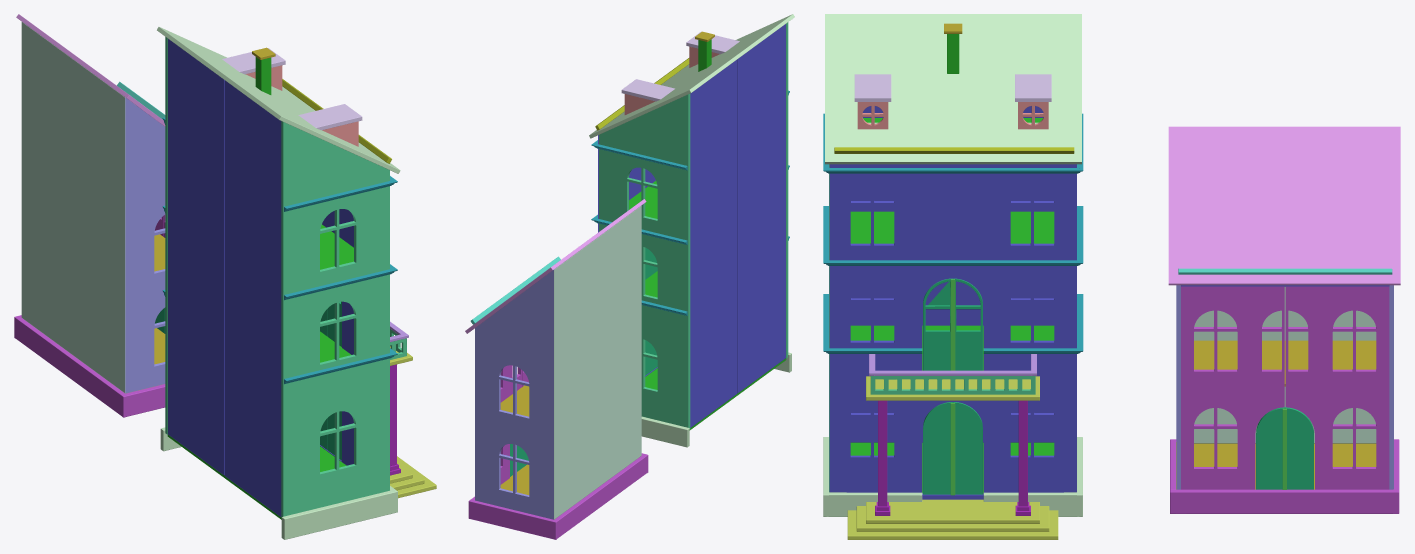
The model's file is dollHouse.fbx.
The picture shows the model from 3 angles, left to right: view 1: azimuth 30°, elevation 25°; view 2: azimuth 150°, elevation 25°; view 3: azimuth 270°, elevation 25°; orthographic projection. The views are drawn at different scales.
Parts seen in each view (by area): view 1: Box298, Box333, Box296, Box295, Box328, Box301, Box336, Box300, Box294, Box312, Box297, Box319 (+10 smaller); view 2: Box333, Box297, Box296, Box295, Box329, Box336, Box301, Box298, Box314, Box325, Box312, Box326 (+10 smaller); view 3: Box294, Box325, Box301, Box326, Box327, Box336, Box333, Box312, Box295, Box296, Box332, Box303 (+28 smaller).
Part boxes in pixels (x1,y1,x2,y2): Box298: (281, 121, 389, 517); Box333: (21, 22, 125, 392); Box296: (224, 80, 281, 516); Box295: (168, 39, 224, 475); Box328: (125, 97, 165, 393); Box301: (157, 27, 400, 173); Box336: (14, 315, 165, 417); Box300: (281, 486, 397, 539); Box294: (320, 209, 353, 465); Box312: (320, 224, 353, 362); Box297: (165, 37, 167, 434); Box319: (298, 104, 362, 130); Box333: (554, 206, 641, 519); Box297: (599, 94, 690, 428); Box296: (737, 24, 785, 393); Box295: (690, 59, 737, 427); Box329: (475, 270, 553, 519); Box336: (468, 453, 648, 539); Box301: (589, 14, 794, 138); Box298: (786, 22, 788, 358); Box314: (641, 416, 689, 447); Box325: (465, 199, 646, 333); Box312: (629, 181, 657, 297); Box326: (500, 365, 521, 484); Box294: (829, 164, 1076, 499); Box325: (1168, 126, 1400, 285); Box301: (825, 14, 1081, 164); Box326: (1285, 286, 1389, 489); Box327: (1181, 286, 1284, 489); Box336: (1170, 439, 1399, 513); Box333: (1194, 286, 1376, 443); Box312: (850, 118, 1054, 370); Box295: (956, 106, 1054, 442); Box296: (850, 106, 949, 442); Box332: (1194, 340, 1376, 386); Box303: (866, 499, 1039, 523).
Bounding box in the file's own units: 66663 × 163502 × 189049.
